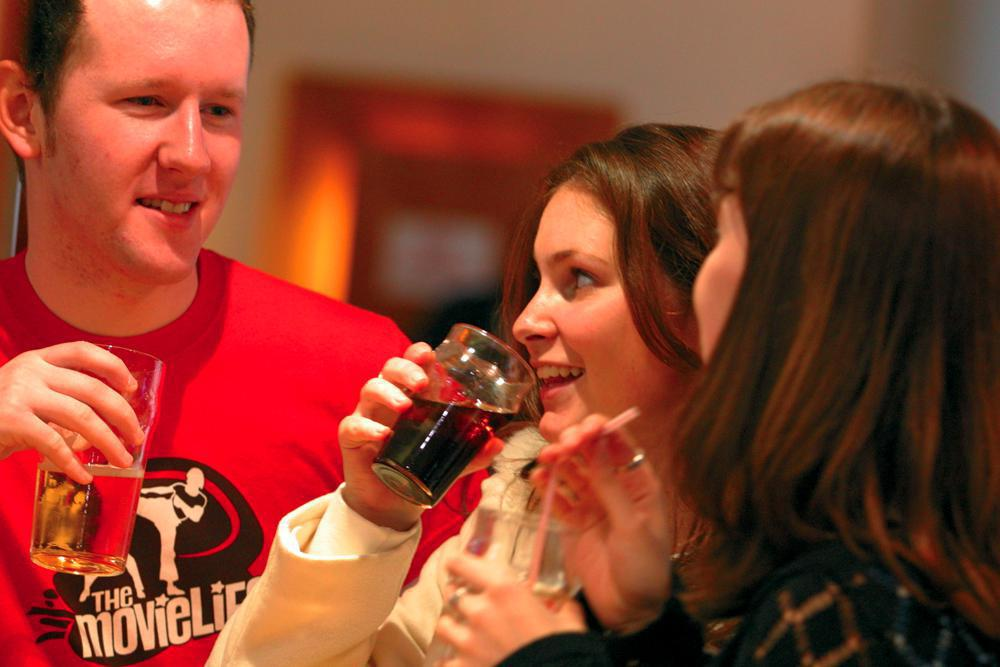Drunk: (75, 3, 246, 279), (516, 189, 665, 437)
